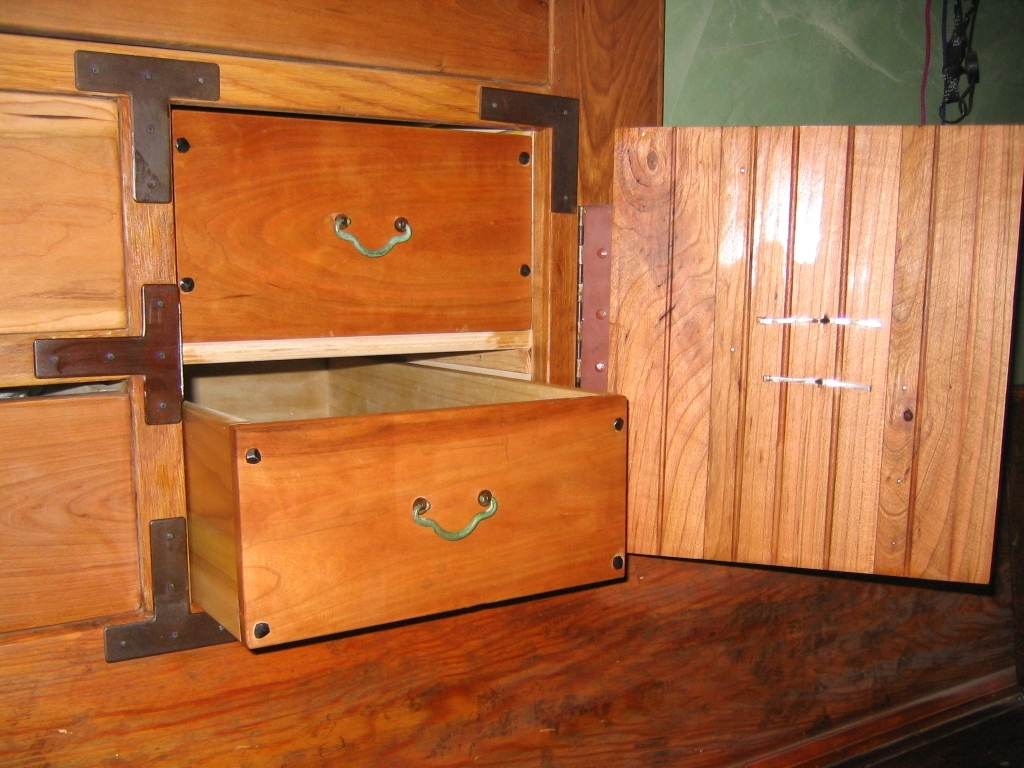cabinet door: (611, 132, 985, 563), (186, 115, 537, 330), (243, 434, 630, 586), (10, 407, 143, 617), (12, 105, 127, 331)
handle: (328, 195, 425, 269), (399, 489, 508, 543)
